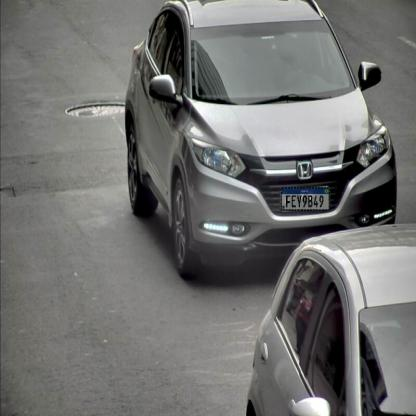PlacaM: (280, 187, 329, 211)
